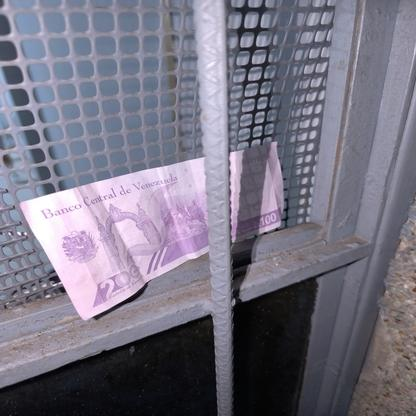one_hundred-back-vef: (20, 141, 284, 321)
